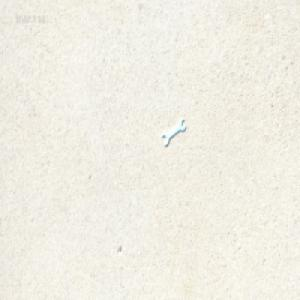Wrench: (161, 120, 186, 149)
